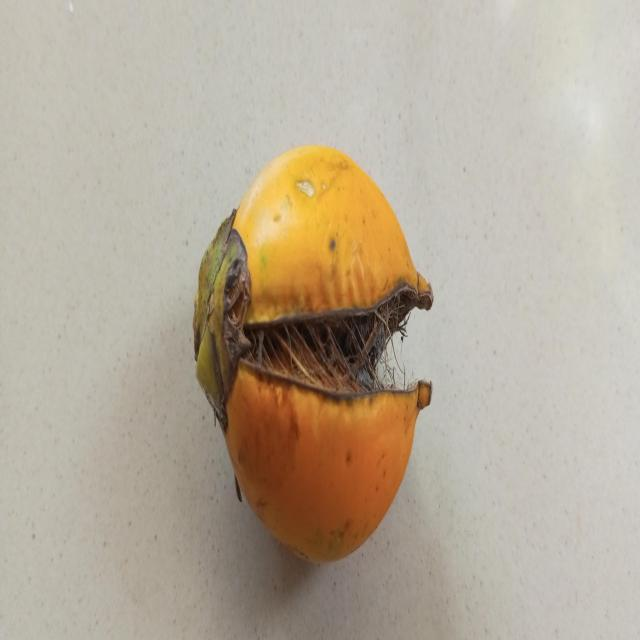damaged: (193, 146, 433, 561)
